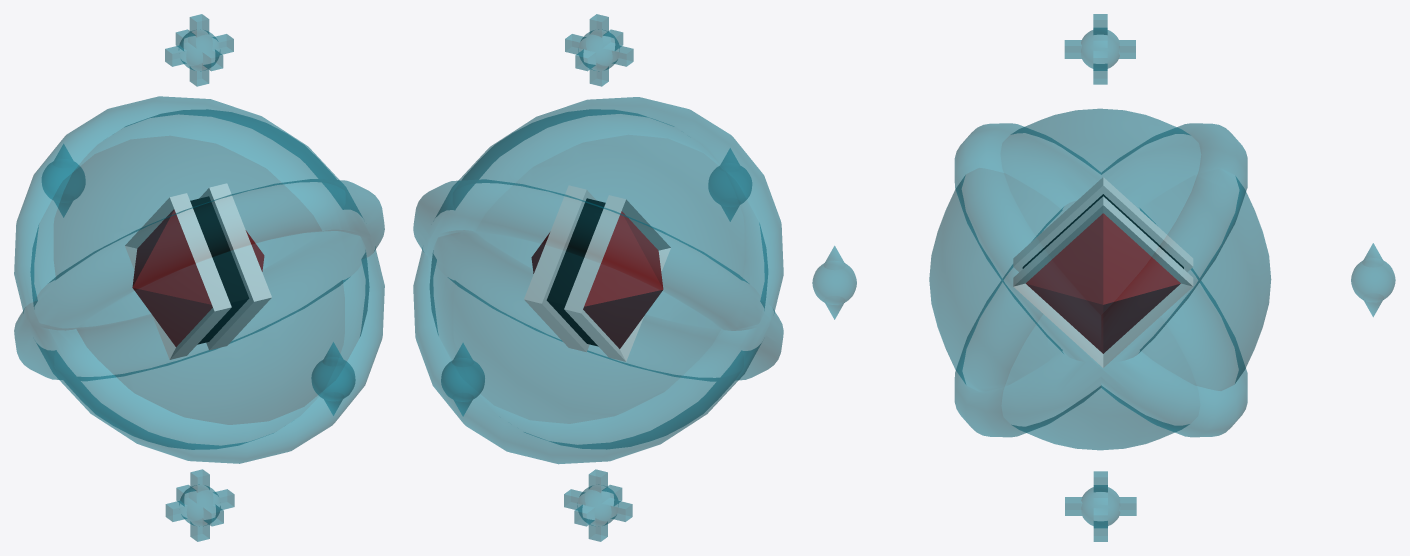
Rendered from BlueEnemy.fbx.
3 renders of one model, left to right at view 1: azimuth 30°, elevation 25°; view 2: azimuth 150°, elevation 25°; view 3: azimuth 270°, elevation 25°, orthographic.
Visible parts, largest first — view 1: pSphere6, pCube1, pCube5, pCube6, pSphere7, pSphere4; view 2: pSphere6, pCube1, pCube5, pCube6, pSphere4, pSphere7; view 3: pSphere6, pCube1, pCube6, pCube5, pSphere4, pSphere7.
Part boxes in pixels (x1,y1,x2,y2): pSphere6: (14,96,384,463); pCube1: (125,183,271,359); pCube5: (165,14,233,86); pCube6: (165,469,234,541); pSphere7: (311,342,355,415); pSphere4: (42,144,85,217); pSphere6: (413,97,783,464); pCube1: (524,185,670,361); pCube5: (565,14,633,86); pCube6: (564,469,632,541); pSphere4: (441,343,484,416); pSphere7: (708,148,751,221); pSphere6: (929,108,1271,450); pCube1: (1013,177,1193,367); pCube6: (1065,471,1136,541); pCube5: (1064,14,1135,84); pSphere4: (1351,243,1395,316); pSphere7: (812,246,856,319).
Size of the model in its own units: 3.1 by 4.52 by 4.58.
Materials: 2 (1 with a texture image).
